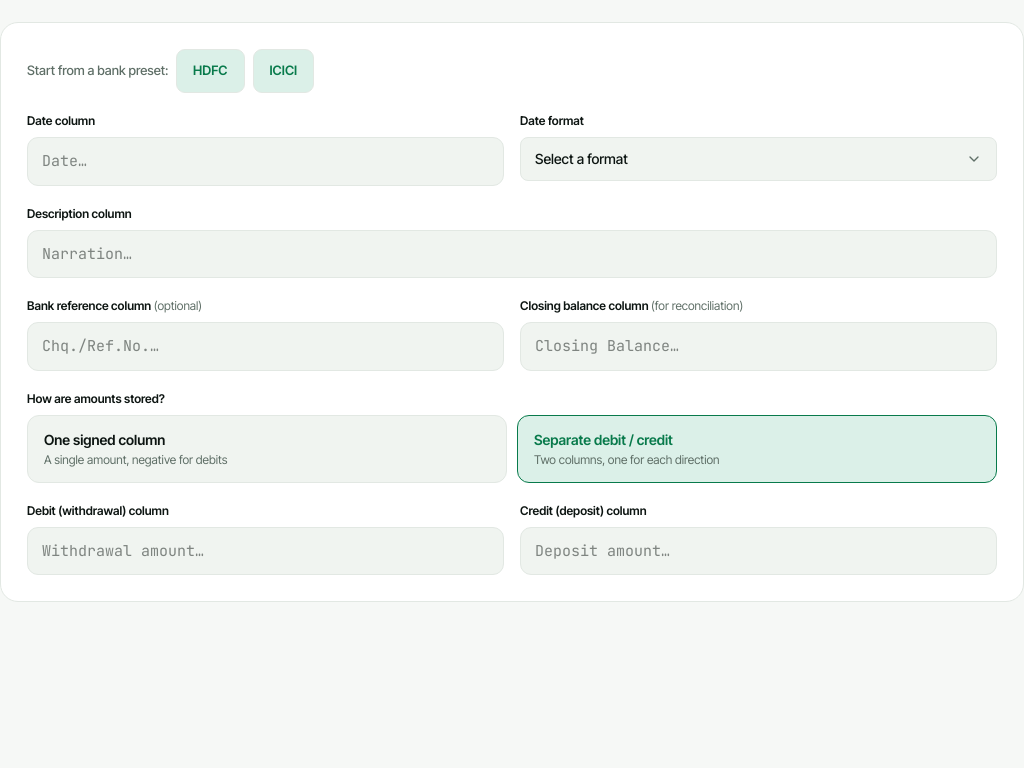
MapStep › switches to a single signed-amount column and back
This screenshot has width=1024, height=768.
Expected: the field labelled "Debit (withdrawal) column" is shown, x1=27 y1=526 x2=504 y2=575
Click the button "One signed column A single amount, negative for debits" at (105, 439), box x1=27 y1=414 x2=507 y2=482
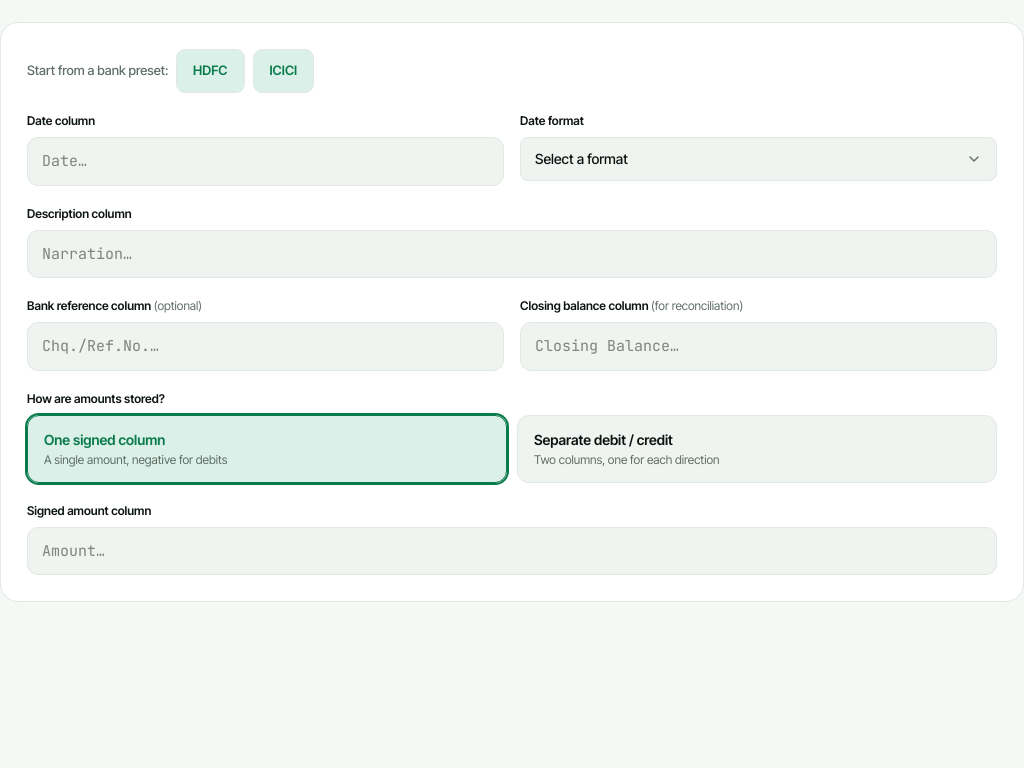
Result: the label labelled "Debit (withdrawal) column" is gone
Result: the field labelled "Signed amount column" is shown at x1=27 y1=526 x2=997 y2=575
